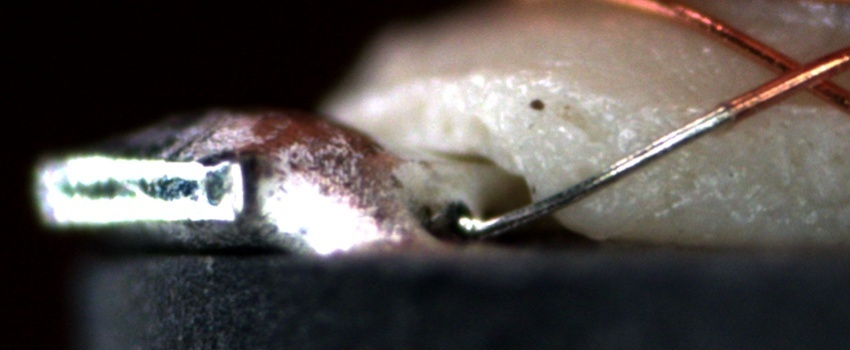CL: (756, 42, 844, 104)
DL: (643, 82, 849, 143)
TS: (462, 104, 734, 241)
